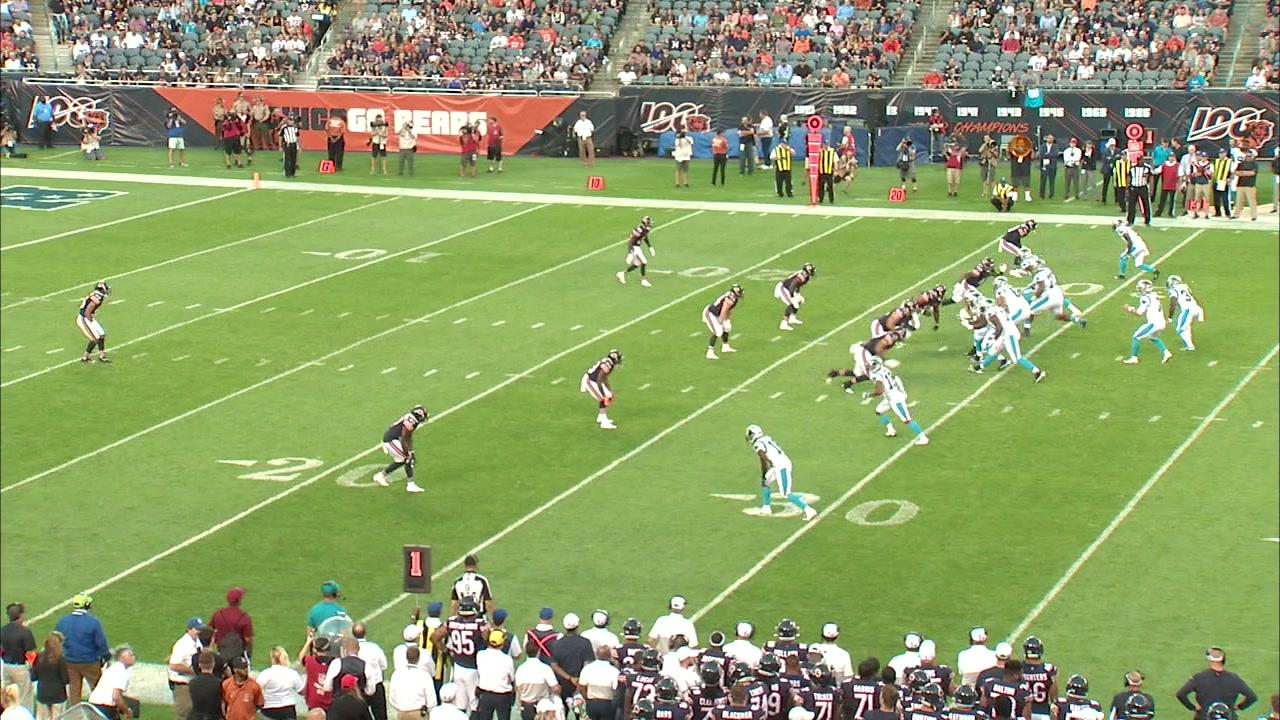defense: (369, 400, 431, 502), (824, 323, 907, 398), (928, 255, 1008, 318), (578, 347, 625, 435), (76, 277, 117, 369), (892, 282, 950, 347), (773, 259, 822, 335), (700, 283, 744, 362), (615, 211, 658, 290), (866, 297, 920, 359), (998, 217, 1040, 279)
oline: (974, 298, 1048, 386), (1018, 261, 1088, 337), (966, 291, 1013, 372), (961, 288, 1002, 358), (991, 274, 1032, 331)
qb: (1118, 278, 1169, 371)
ref: (448, 546, 494, 618), (1124, 156, 1153, 222)
skill: (743, 422, 818, 524), (865, 358, 936, 448), (1016, 246, 1082, 316), (1106, 217, 1164, 281), (1160, 273, 1206, 353)
